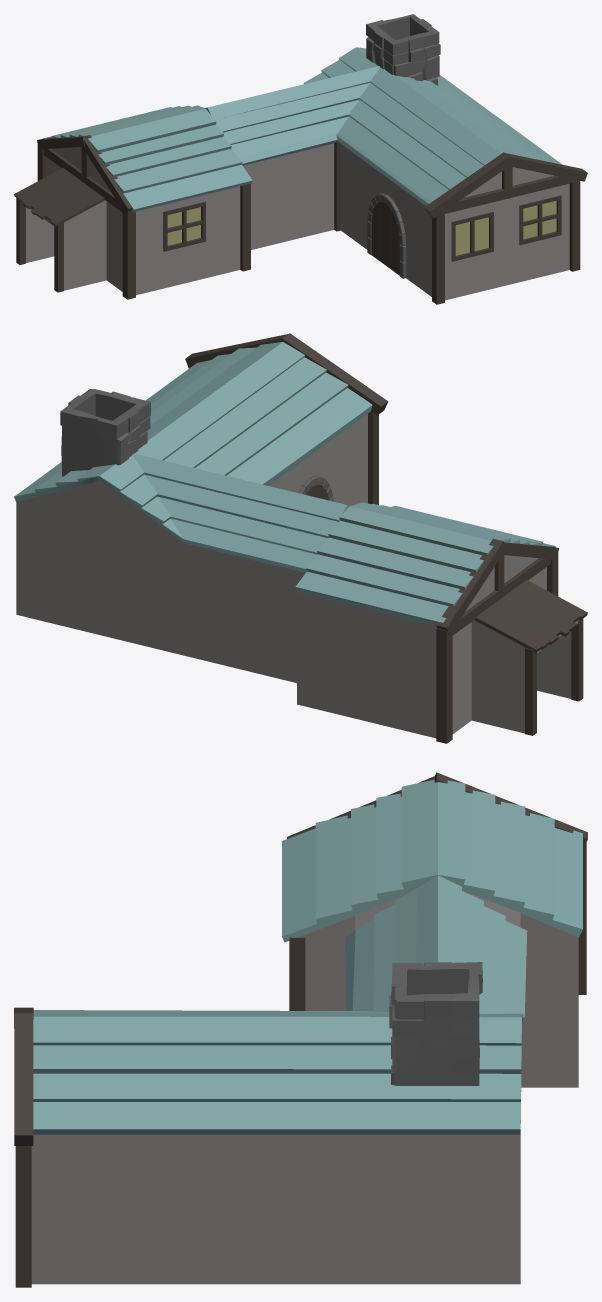
The model's file is SM_GolbinHouse.fbx.
3 renders of one model, top to bottom at view 1: azimuth 30°, elevation 25°; view 2: azimuth 150°, elevation 25°; view 3: azimuth 270°, elevation 25°, orthographic. The views are drawn at different scales.
Visible parts, largest first — view 1: polySurface2, polySurface1, pCube20, pCube18, pCube2, pCube19, pCube23, pCube6, pCube4, pCube24, pCube12, pCube3 (+12 smaller); view 2: polySurface1, polySurface2, pCube20, pCube18, pCube23, pCube24, pCube15, pCube14, pCube6, pCube16, pCube22, pCube21 (+3 smaller); view 3: polySurface2, polySurface1, pCube18, pCube7, pCube5, pCube10, pCube15, pCube14.
Boxes of the visible parts, box(x1,y1,x2,y2) form: polySurface2: box(43, 47, 561, 212); polySurface1: box(46, 143, 569, 300); pCube20: box(26, 200, 106, 290); pCube18: box(366, 14, 440, 85); pCube2: box(451, 195, 561, 261); pCube19: box(163, 201, 205, 251); pCube23: box(17, 171, 105, 226); pCube6: box(424, 152, 512, 218); pCube4: box(438, 175, 579, 215); pCube24: box(14, 168, 99, 220); pCube12: box(122, 206, 135, 299); pCube3: box(432, 214, 444, 304); polySurface1: box(16, 414, 546, 738); polySurface2: box(14, 342, 555, 625); pCube20: box(471, 620, 578, 733); pCube18: box(60, 388, 150, 476); pCube23: box(481, 580, 587, 649); pCube24: box(474, 584, 579, 652); pCube15: box(436, 628, 452, 743); pCube14: box(436, 538, 505, 635); pCube6: box(281, 333, 388, 415); pCube16: box(452, 558, 550, 635); pCube22: box(525, 648, 536, 735); pCube21: box(571, 618, 583, 701); polySurface2: box(33, 779, 582, 1134); polySurface1: box(31, 890, 578, 1284); pCube18: box(389, 962, 482, 1085); pCube7: box(14, 1013, 33, 1145); pCube5: box(15, 1146, 31, 1287); pCube10: box(289, 937, 305, 1010); pCube15: box(578, 842, 586, 994); pCube14: box(435, 772, 587, 844).
Size of the model in its own units: 993 by 356 by 695.
